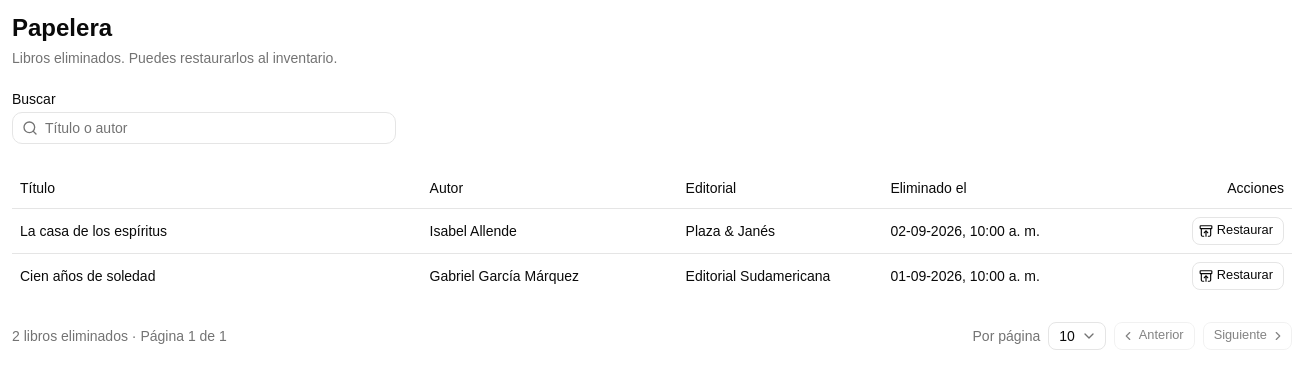
Test case: TrashPage › restaura un libro: toast, sale de la papelera e invalida el listado de libros
The width and height of the screenshot is (1304, 367).
Click the button "Restaurar" in the row of "Cien años de soledad" at (1238, 276), box [1192,262,1284,290]
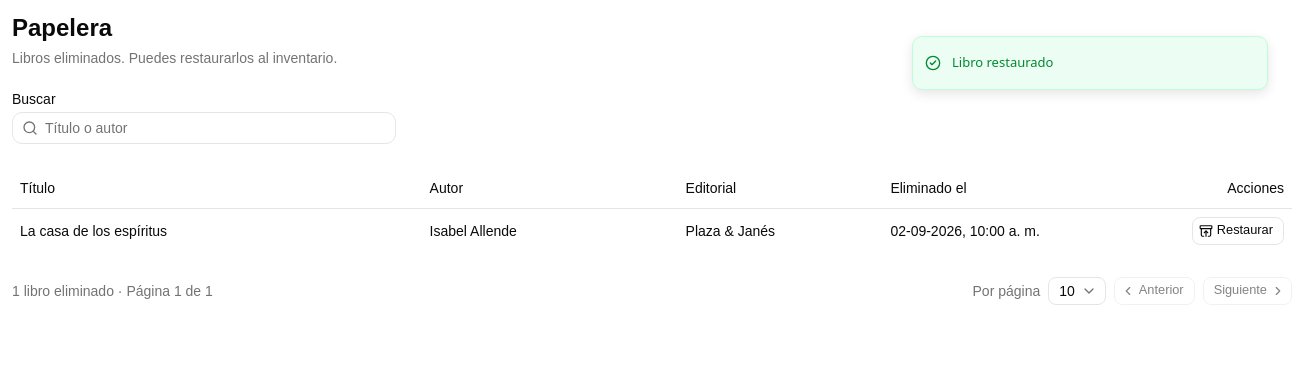
Expected: the text "La casa de los espíritus" is shown, [12,208,422,252]
Expected: the text "Libro restaurado" is shown, [952,53,1054,72]
Expected: the text "Cien años de soledad" is gone
